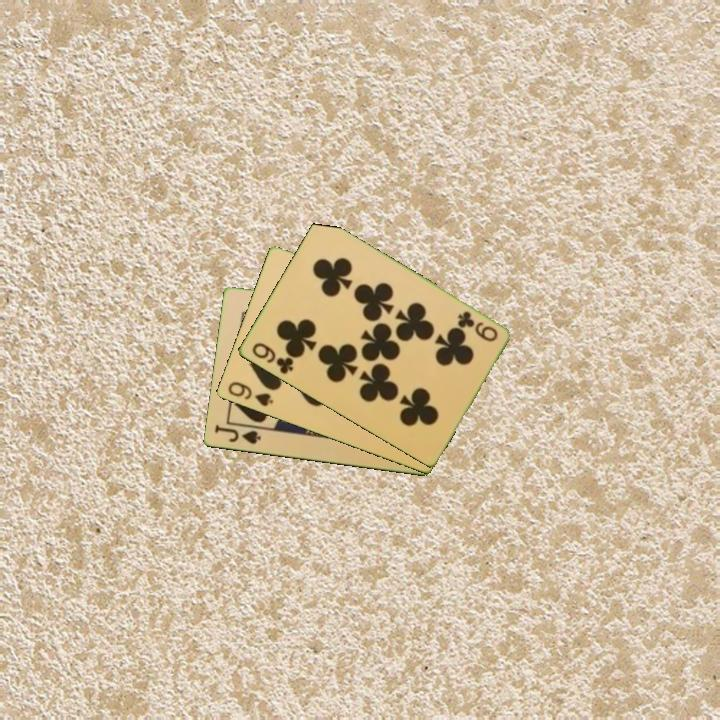9c: (248, 339, 296, 377), (453, 307, 500, 345)
9s: (224, 378, 276, 410)
Js: (211, 421, 264, 447)
